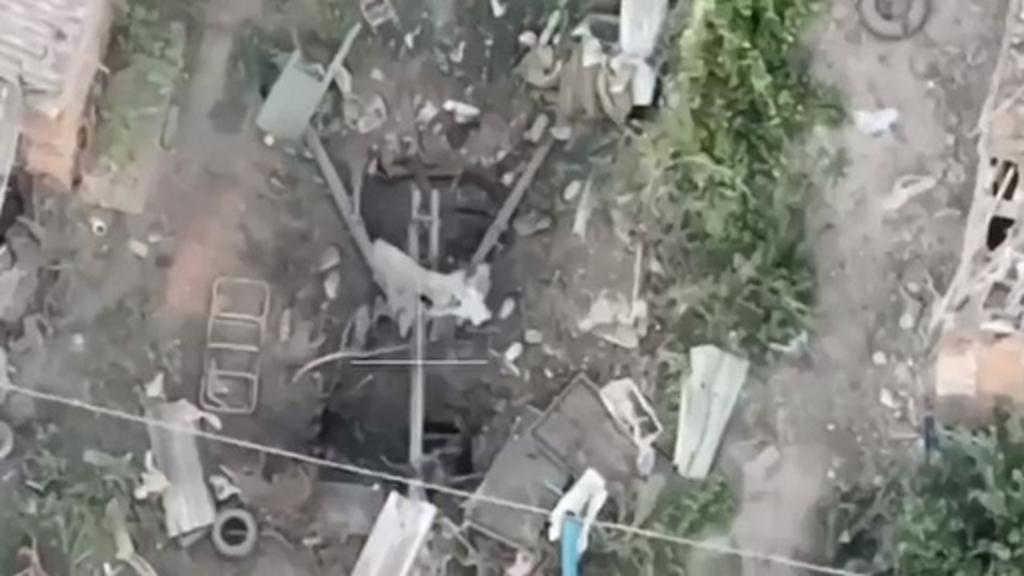ART: (300, 120, 556, 504)
